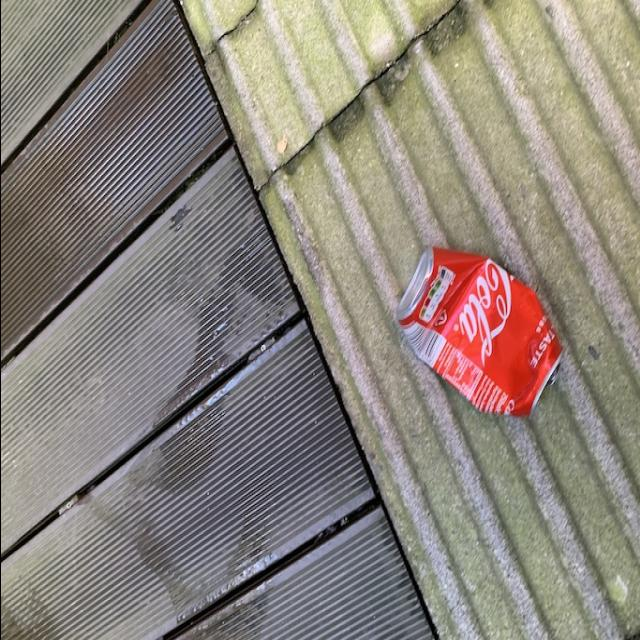Aluminum Can: (380, 244, 566, 416)
